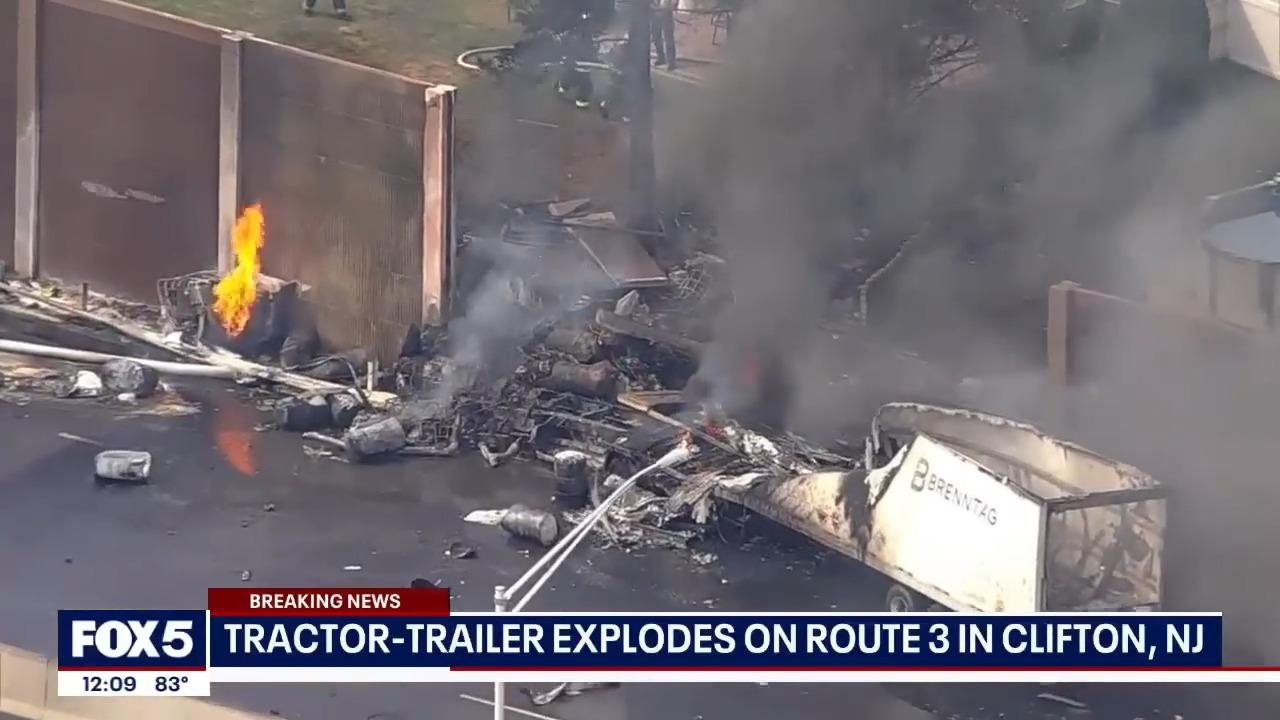fire: (209, 204, 276, 341)
